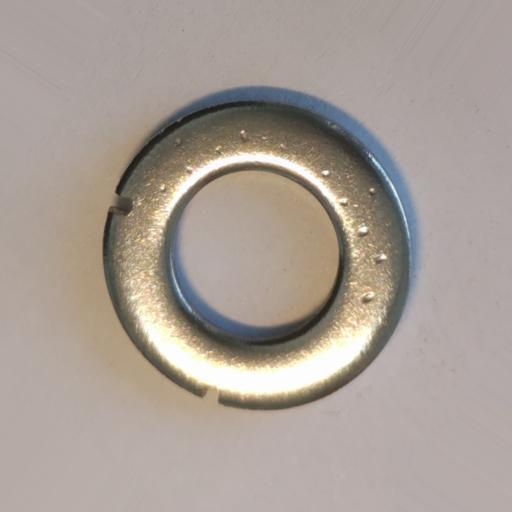burr: (110, 192, 134, 217), (200, 385, 221, 404)
